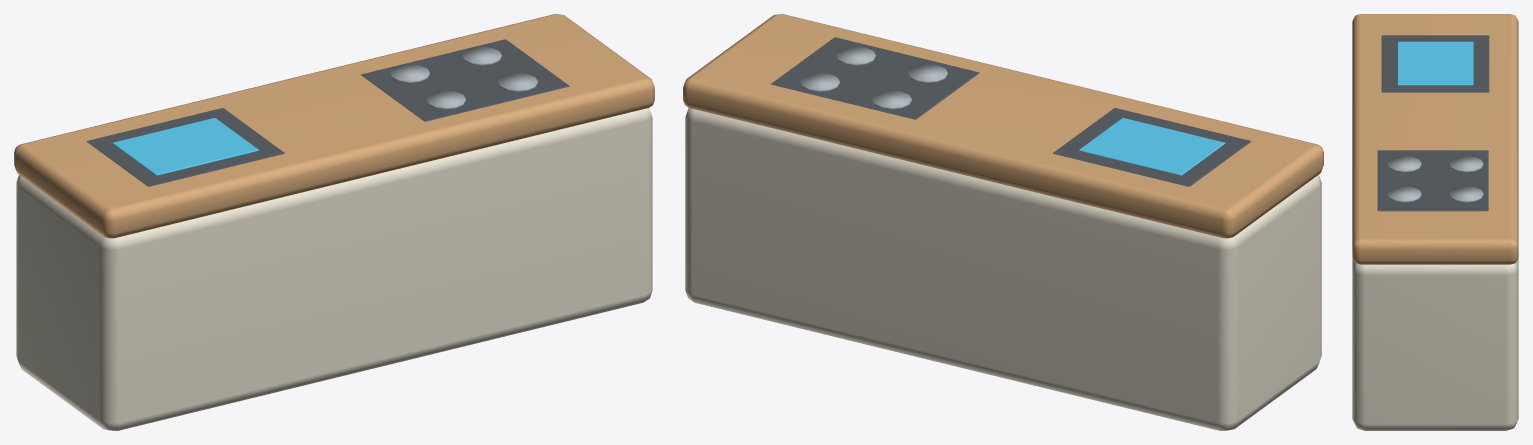
The model's file is KitchenCounter.fbx.
The picture shows the model from 3 angles, left to right: view 1: azimuth 30°, elevation 25°; view 2: azimuth 150°, elevation 25°; view 3: azimuth 270°, elevation 25°; orthographic projection. The views are drawn at different scales.
Parts seen in each view (by area): view 1: Counter_Base, Counter_Top, Counter_Stove, Counter_SinkWater, Counter_SinkInset, Counter_Burner.001, Counter_Burner, Counter_Burner.002, Counter_Burner.003; view 2: Counter_Base, Counter_Top, Counter_Stove, Counter_SinkWater, Counter_SinkInset, Counter_Burner, Counter_Burner.001, Counter_Burner.002, Counter_Burner.003; view 3: Counter_Top, Counter_Base, Counter_Stove, Counter_SinkWater, Counter_SinkInset, Counter_Burner, Counter_Burner.001, Counter_Burner.002, Counter_Burner.003.
Part boxes in pixels (<box>): Counter_Base: <box>16,108,652,430</box>; Counter_Top: <box>14,14,654,238</box>; Counter_Stove: <box>361,39,569,121</box>; Counter_SinkWater: <box>112,118,258,175</box>; Counter_SinkInset: <box>86,108,284,186</box>; Counter_Burner.001: <box>390,64,429,82</box>; Counter_Burner: <box>426,90,465,109</box>; Counter_Burner.002: <box>498,73,537,91</box>; Counter_Burner.003: <box>462,46,501,65</box>; Counter_Base: <box>685,108,1321,430</box>; Counter_Top: <box>683,14,1323,238</box>; Counter_Stove: <box>771,37,979,119</box>; Counter_SinkWater: <box>1079,118,1225,175</box>; Counter_SinkInset: <box>1053,108,1251,186</box>; Counter_Burner: <box>908,64,947,82</box>; Counter_Burner.001: <box>872,90,911,109</box>; Counter_Burner.002: <box>836,46,875,65</box>; Counter_Burner.003: <box>800,73,839,91</box>; Counter_Top: <box>1352,14,1518,264</box>; Counter_Base: <box>1352,257,1518,430</box>; Counter_Stove: <box>1377,150,1488,211</box>; Counter_SinkWater: <box>1397,41,1473,85</box>; Counter_SinkInset: <box>1381,35,1489,92</box>; Counter_Burner: <box>1387,156,1421,172</box>; Counter_Burner.001: <box>1449,156,1483,172</box>; Counter_Burner.002: <box>1387,186,1421,202</box>; Counter_Burner.003: <box>1449,186,1483,202</box>.
Bounding box in the file's own units: 2.3 × 0.91 × 0.7.
